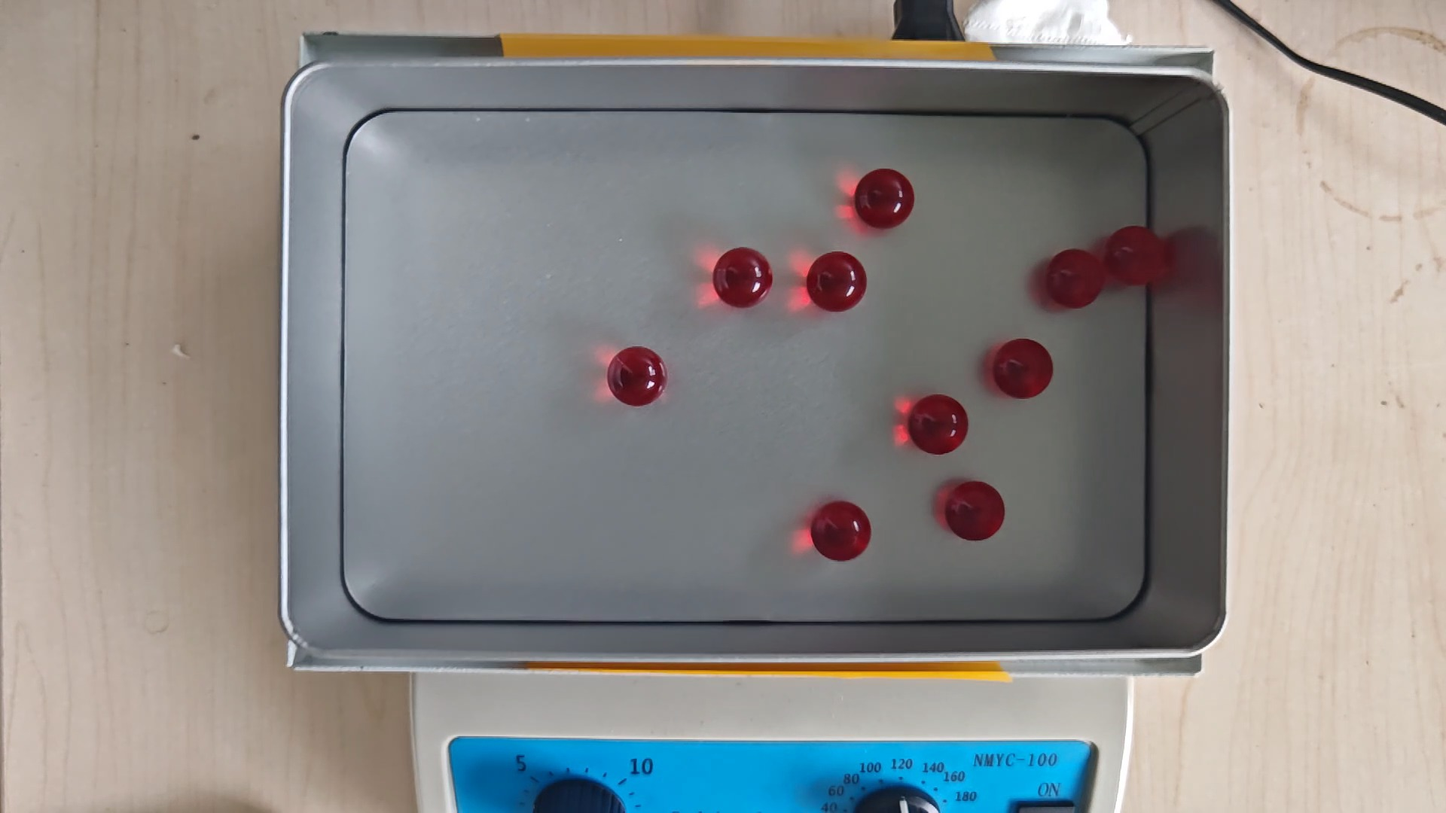ball: (993, 338, 1054, 400), (945, 480, 1006, 542), (607, 345, 667, 408), (908, 394, 969, 455), (807, 251, 867, 313), (811, 501, 871, 562), (714, 246, 773, 308), (1105, 226, 1164, 288), (855, 168, 914, 229), (1046, 249, 1103, 309)
container: (342, 111, 1148, 622)
